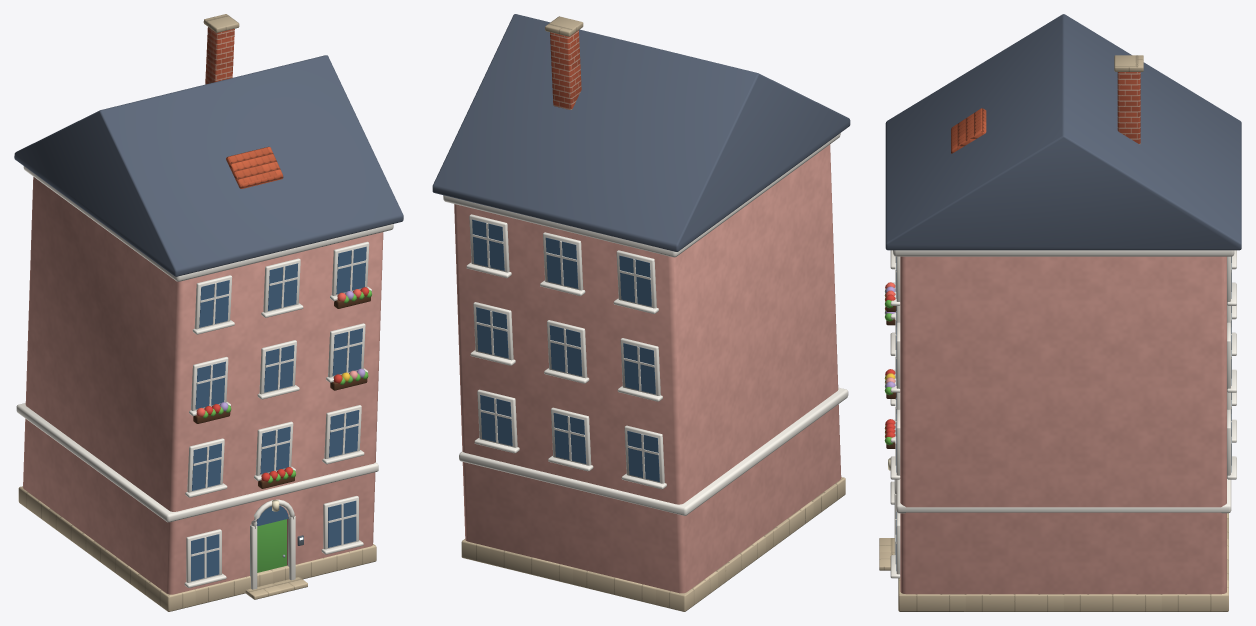
The model's file is house_a.gltf.
The picture shows the model from 3 angles, left to right: view 1: azimuth 30°, elevation 25°; view 2: azimuth 150°, elevation 25°; view 3: azimuth 270°, elevation 25°; orthographic projection. The views are drawn at different scales.
Parts seen in each view (by area): view 1: house_a_mesh, INT_door_house_a_0; view 2: house_a_mesh; view 3: house_a_mesh.
Boxes of the visible parts, x1=… form: house_a_mesh: x1=14, y1=14, x2=403, y2=611; INT_door_house_a_0: x1=257, y1=519, x2=286, y2=572; house_a_mesh: x1=432, y1=14, x2=850, y2=611; house_a_mesh: x1=879, y1=14, x2=1241, y2=611.
Size of what is drawn, in the model's own units: 9.2 by 17.72 by 11.1.
20 materials, 4 textured.
